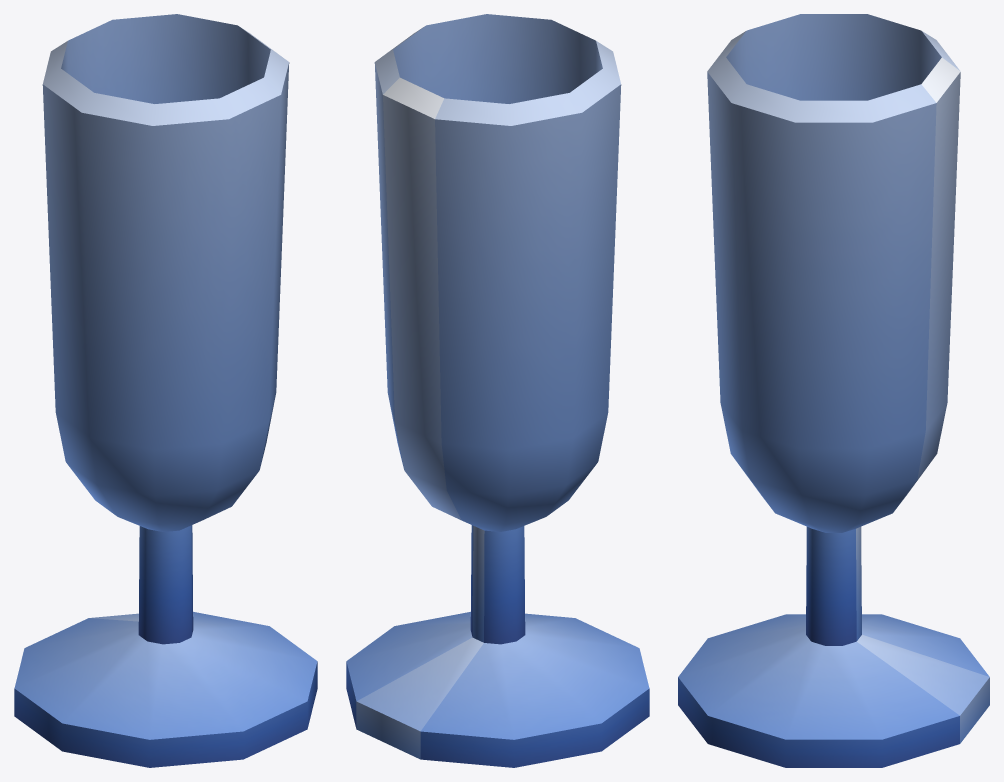
File: m_Glass05.fbx
3 views of the same model, side by side, from view 1: azimuth 30°, elevation 25°; view 2: azimuth 150°, elevation 25°; view 3: azimuth 270°, elevation 25° (orthographic).
Parts seen in each view (by area): view 1: m_Glass05; view 2: m_Glass05; view 3: m_Glass05.
Part boxes in pixels (x1,y1,x2,y2): m_Glass05: [14, 14, 317, 767]; m_Glass05: [346, 14, 649, 767]; m_Glass05: [678, 14, 989, 767].
Bounding box in the file's own units: 9.51 × 22.93 × 10.
